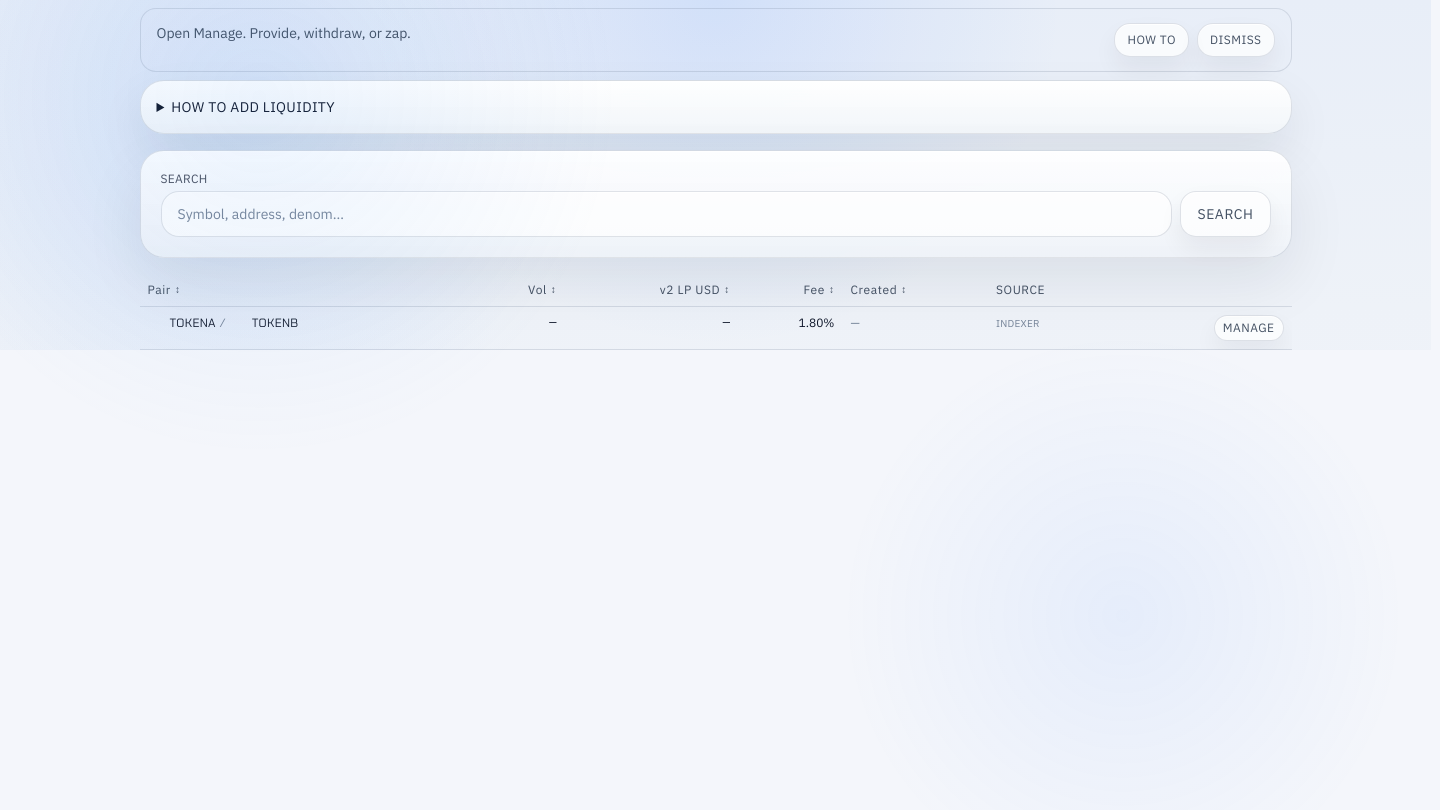
it: PoolPage fee-discount UX (GitLab #476) › shows full fee_bps with no strikethrough when the pair discount_registry is unset (#537)
Click the button with test id "pool-row-manage".
click(1249, 328)  # box [1214,315,1284,341]
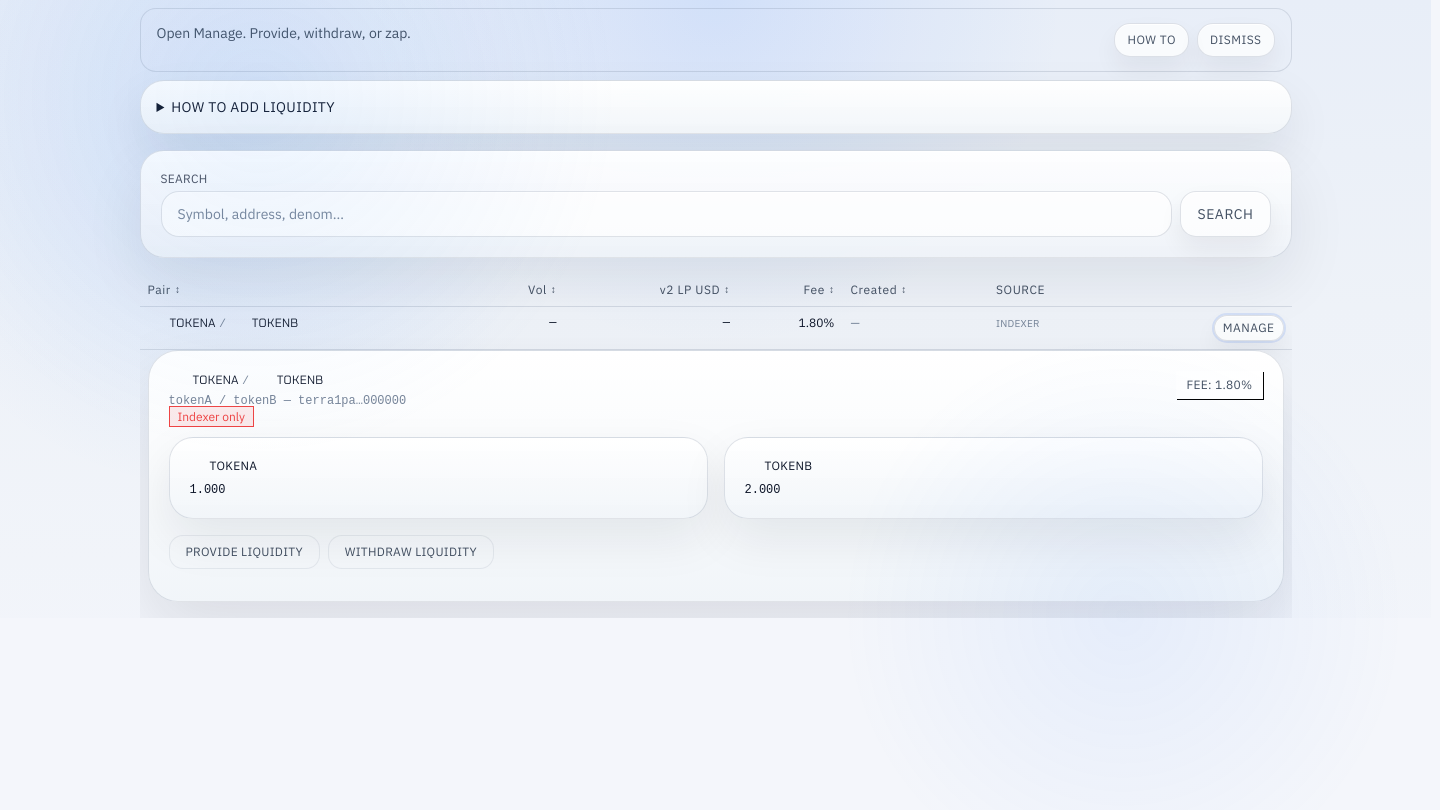
Expected: the element with test id "pool-fee-badge" does not show "1.35%", [1176,371,1262,399]
Expected: the element with test id "pool-fee-badge" shows "1.80%", [1176,371,1262,399]
